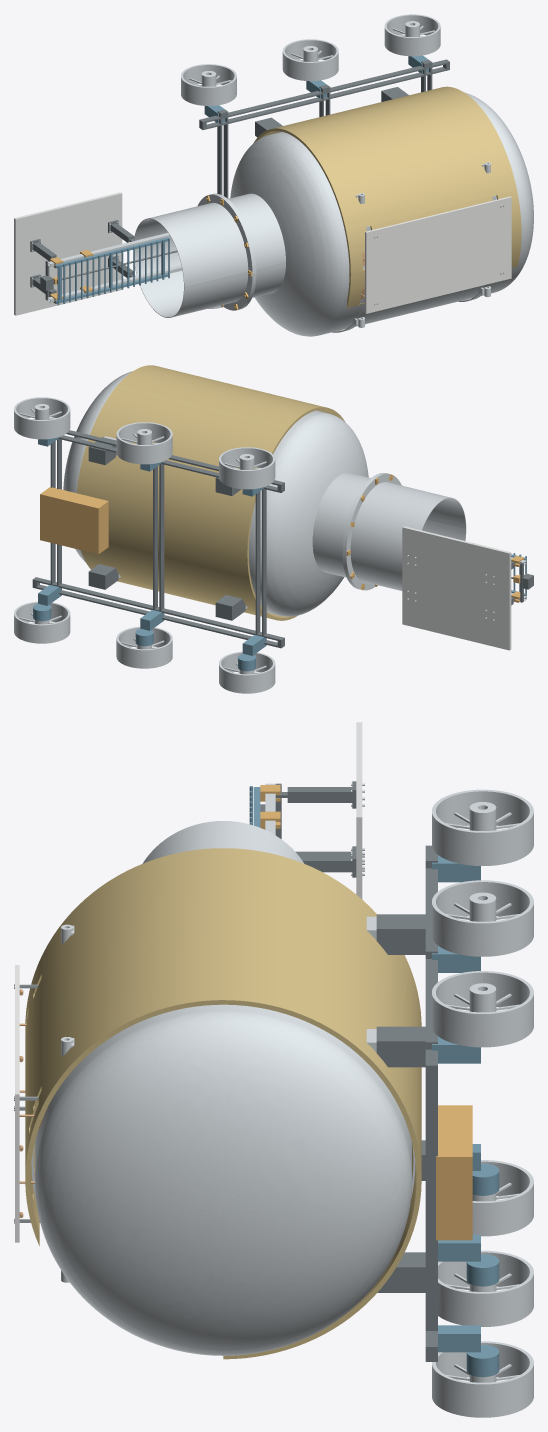
The model's file is moon-cad.glb.
3 renders of one model, top to bottom at view 1: azimuth 30°, elevation 25°; view 2: azimuth 150°, elevation 25°; view 3: azimuth 270°, elevation 25°, orthographic. The views are drawn at different scales.
Visible parts, largest first — view 1: moon-16, moon-0, moon-127, moon-97, moon-104, moon-88, moon-83, moon-94, moon-92, moon-90, moon-102, moon-103 (+2 smaller); view 2: moon-16, moon-0, moon-104, moon-88, moon-97, moon-96, moon-95, moon-92, moon-90, moon-94, moon-91, moon-89 (+1 smaller); view 3: moon-0, moon-16, moon-88, moon-95, moon-90, moon-92, moon-94, moon-93, moon-91, moon-96, moon-89, moon-97 (+3 smaller).
Part boxes in pixels (left/top/right/bottom): moon-16: left=254, top=86, right=521, bottom=307; moon-0: left=228, top=92, right=533, bottom=336; moon-127: left=365, top=196, right=511, bottom=313; moon-97: left=134, top=194, right=254, bottom=317; moon-104: left=14, top=192, right=122, bottom=315; moon-88: left=199, top=59, right=449, bottom=198; moon-83: left=54, top=237, right=169, bottom=305; moon-94: left=384, top=14, right=440, bottom=56; moon-92: left=282, top=39, right=338, bottom=81; moon-90: left=181, top=64, right=236, bottom=105; moon-102: left=47, top=233, right=182, bottom=302; moon-103: left=30, top=220, right=135, bottom=296; moon-16: left=76, top=365, right=344, bottom=620; moon-0: left=63, top=371, right=370, bottom=616; moon-104: left=402, top=526, right=511, bottom=650; moon-88: left=32, top=430, right=284, bottom=648; moon-97: left=344, top=473, right=466, bottom=590; moon-96: left=40, top=487, right=108, bottom=554; moon-95: left=33, top=437, right=265, bottom=671; moon-92: left=116, top=422, right=172, bottom=464; moon-90: left=219, top=447, right=275, bottom=489; moon-94: left=14, top=397, right=70, bottom=439; moon-91: left=116, top=626, right=172, bottom=668; moon-89: left=219, top=651, right=275, bottom=693; moon-0: left=35, top=1004, right=411, bottom=1355; moon-16: left=25, top=848, right=421, bottom=1359; moon-88: left=376, top=845, right=437, bottom=1361; moon-95: left=432, top=855, right=499, bottom=1377; moon-90: left=432, top=789, right=533, bottom=865; moon-92: left=432, top=880, right=533, bottom=956; moon-94: left=432, top=971, right=533, bottom=1047; moon-93: left=432, top=1341, right=533, bottom=1417; moon-91: left=438, top=1250, right=533, bottom=1326; moon-96: left=436, top=1105, right=472, bottom=1240; moon-89: left=472, top=1160, right=533, bottom=1236; moon-97: left=142, top=821, right=303, bottom=863.
Bounding box in the file's own units: 4.7 × 2.22 × 2.55.
